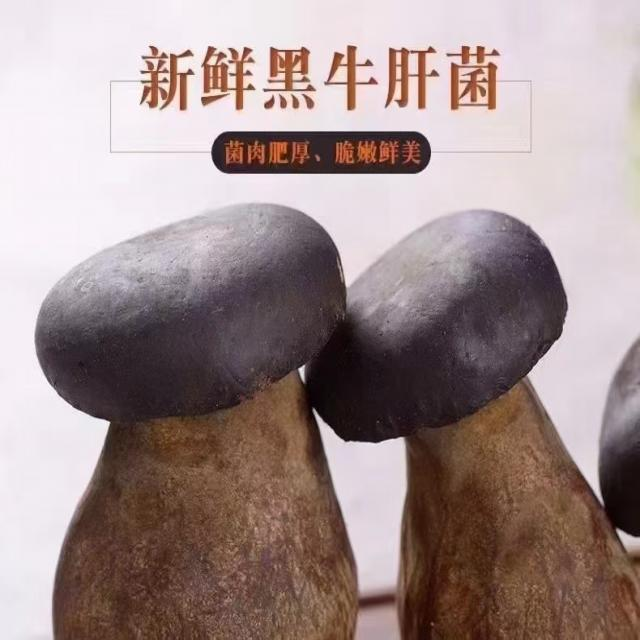Boletus: (298, 211, 640, 637), (36, 202, 358, 640)
